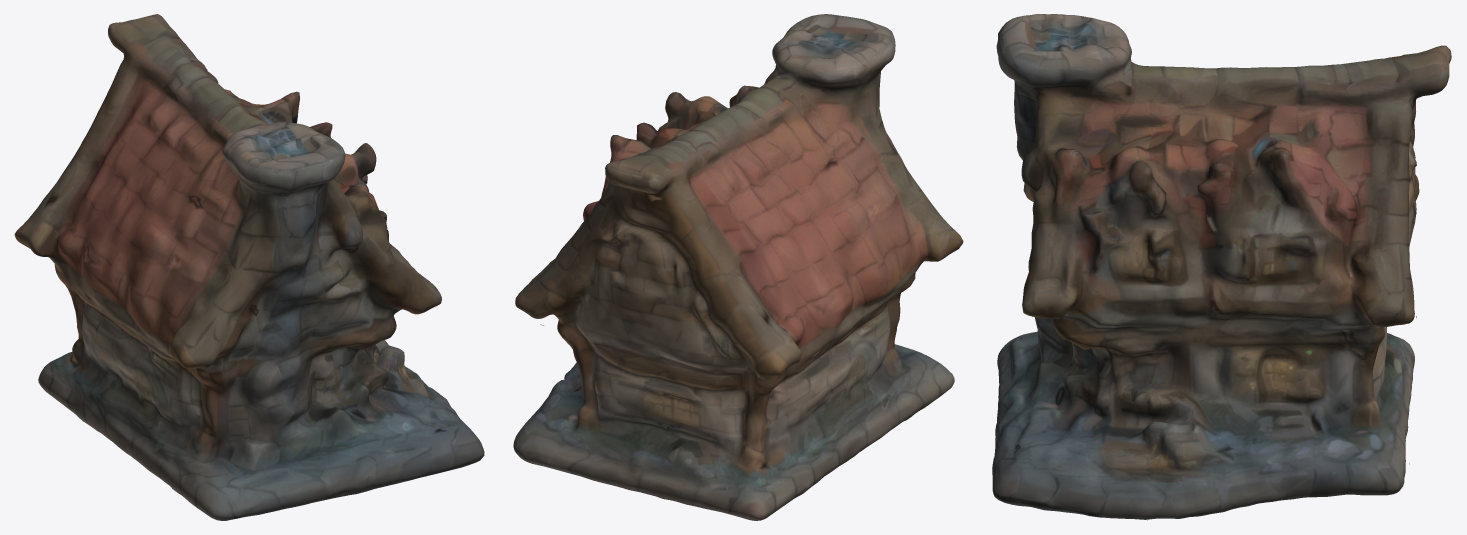
File: house2.fbx
3 views of the same model, side by side, from view 1: azimuth 30°, elevation 25°; view 2: azimuth 150°, elevation 25°; view 3: azimuth 270°, elevation 25° (orthographic). The views are drawn at different scales.
Parts seen in each view (by area): view 1: Mesh_0; view 2: Mesh_0; view 3: Mesh_0.
Boxes of the visible parts, x1,y1,x2,y2 form: Mesh_0: (14,14,484,520); Mesh_0: (513,14,963,520); Mesh_0: (992,14,1451,520).
Size of the model in its own units: 103 by 117 by 120.
1 material, 1 textured.
